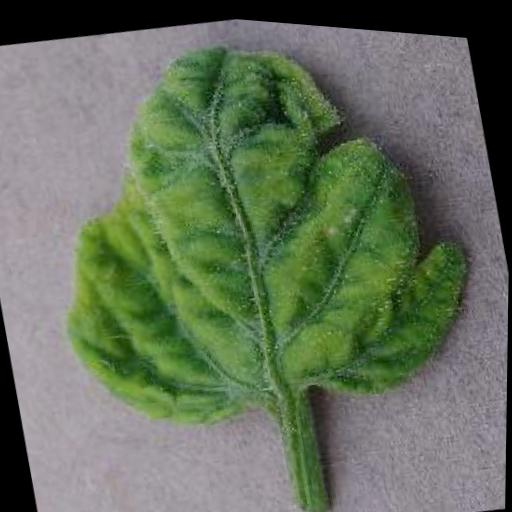Yellow Leaf Curl Virus: (14, 1, 492, 460)
